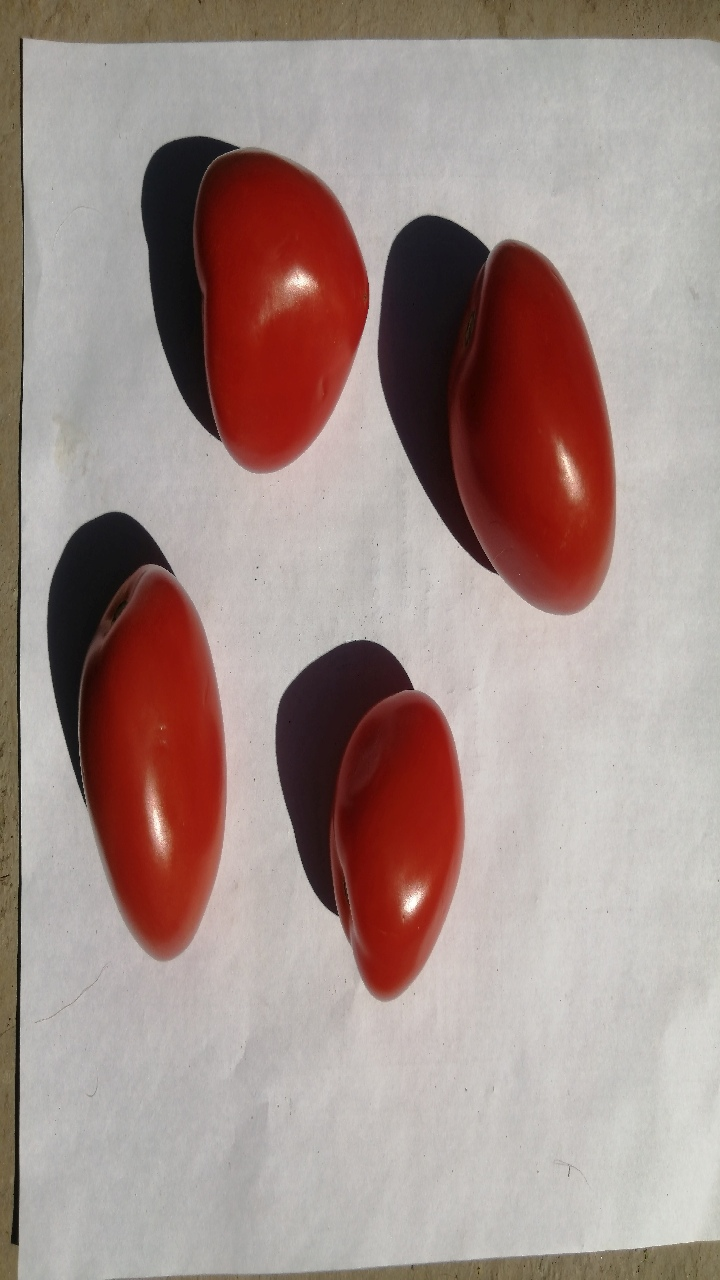tomateRojo: (417, 215, 649, 635), (44, 535, 251, 988), (172, 120, 389, 499), (309, 692, 483, 1015)
